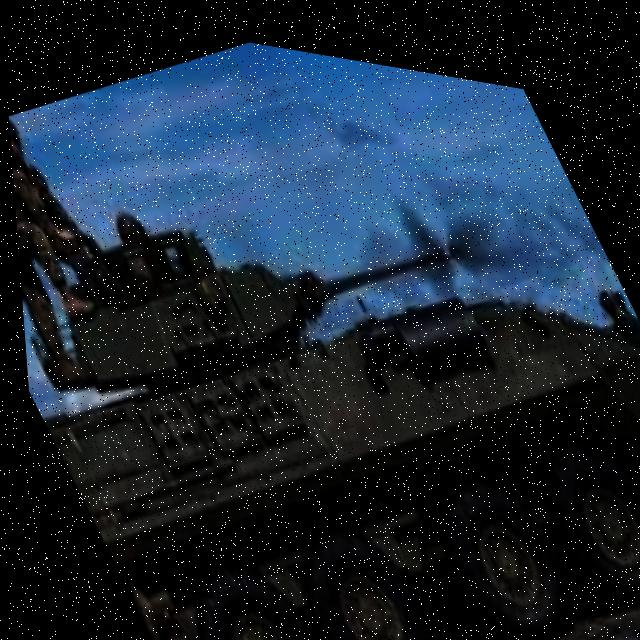MIL_APC: (2, 29, 640, 640)
